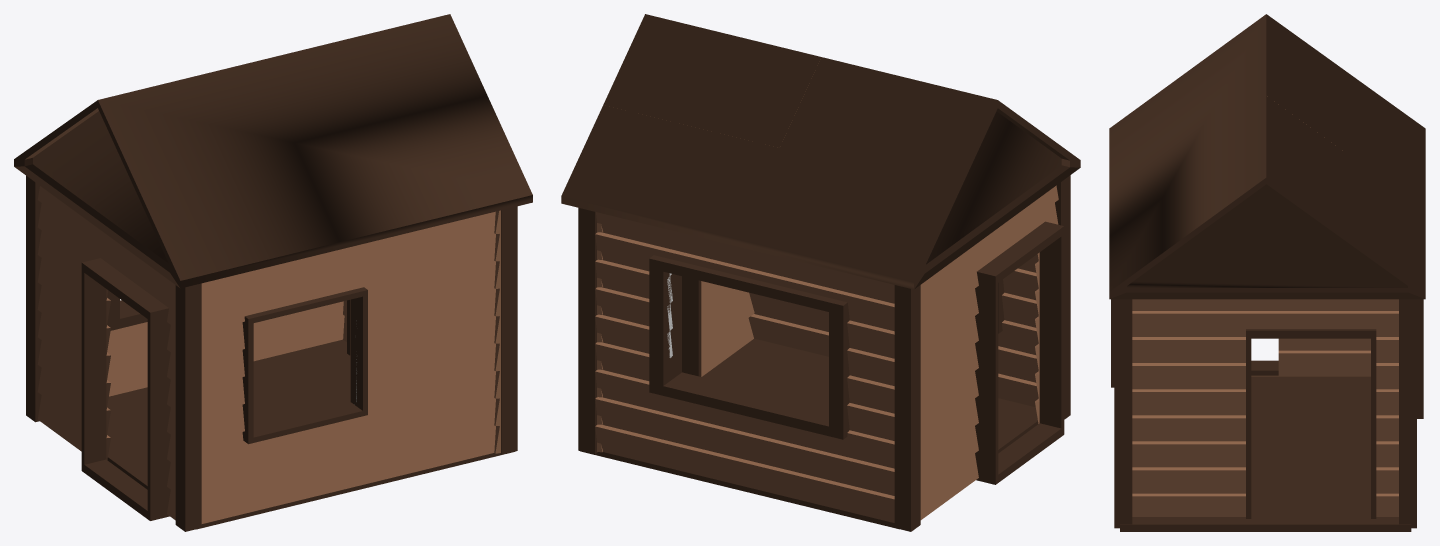
Rendered from houseFBX.fbx.
The picture shows the model from 3 angles, left to right: view 1: azimuth 30°, elevation 25°; view 2: azimuth 150°, elevation 25°; view 3: azimuth 270°, elevation 25°; orthographic projection. The views are drawn at different scales.
Parts seen in each view (by area): view 1: Cleing, Cabin_Floor, Wall_Plank_1_3, Wall_Plank_0_3, Cube_1_2, Wall_Plank_7_3, Cube_7, Wall_Plank_2_3, Wall_Plank_8_3, Cube_2, Wall_Plank_3_3, Wall_Plank_4_3 (+18 smaller); view 2: Cleing, Cube_5, Cabin_Floor, Wall_Plank_1_4, Wall_Plank_0_4, Cube_1_2, Cube_1_5, Wall_Plank_2_4, Wall_Plank_8_4, Cube_2, Wall_Plank_7_4, Cube_1_4 (+24 smaller); view 3: Cleing, Cabin_Floor, Wall_Plank_7, Cube_3_2, Cube_2_2, Wall_Plank_1, Wall_Plank_2, Wall_Plank_3, Wall_Plank_4, Wall_Plank_5, Wall_Plank_6, Cube_1 (+5 smaller).
Boxes of the visible parts, box(x1,y1,x2,y2) form: Cleing: box(14, 14, 532, 288); Cabin_Floor: box(107, 339, 514, 529); Wall_Plank_1_3: box(201, 398, 495, 496); Wall_Plank_0_3: box(201, 425, 495, 523); Cube_1_2: box(81, 258, 170, 520); Wall_Plank_7_3: box(201, 233, 495, 331); Cube_7: box(175, 283, 201, 531); Wall_Plank_2_3: box(201, 370, 495, 469); Wall_Plank_8_3: box(201, 211, 495, 304); Cube_2: box(84, 273, 147, 510); Wall_Plank_3_3: box(201, 343, 495, 441); Wall_Plank_4_3: box(201, 315, 495, 414); Cleing: box(561, 14, 1080, 289); Cube_5: box(649, 255, 849, 439); Cabin_Floor: box(580, 338, 1038, 529); Wall_Plank_1_4: box(595, 397, 894, 495); Wall_Plank_0_4: box(595, 424, 894, 522); Cube_1_2: box(975, 221, 1064, 484); Cube_1_5: box(894, 285, 920, 531); Wall_Plank_2_4: box(595, 369, 894, 468); Wall_Plank_8_4: box(596, 212, 894, 303); Cube_2: box(998, 237, 1061, 474); Wall_Plank_7_4: box(595, 232, 894, 331); Cube_1_4: box(663, 272, 828, 426); Cleing: box(1109, 14, 1425, 299); Cabin_Floor: box(1120, 376, 1411, 531); Wall_Plank_7: box(1132, 311, 1398, 336); Cube_3_2: box(1114, 299, 1132, 528); Cube_2_2: box(1399, 299, 1416, 528); Wall_Plank_1: box(1132, 467, 1398, 493); Wall_Plank_2: box(1132, 441, 1398, 467); Wall_Plank_3: box(1132, 415, 1398, 441); Wall_Plank_4: box(1132, 389, 1398, 415); Wall_Plank_5: box(1132, 363, 1398, 389); Wall_Plank_6: box(1132, 337, 1398, 362); Cube_1: box(1246, 329, 1376, 518).
Size of the model in its own units: 658 by 667 by 528.
